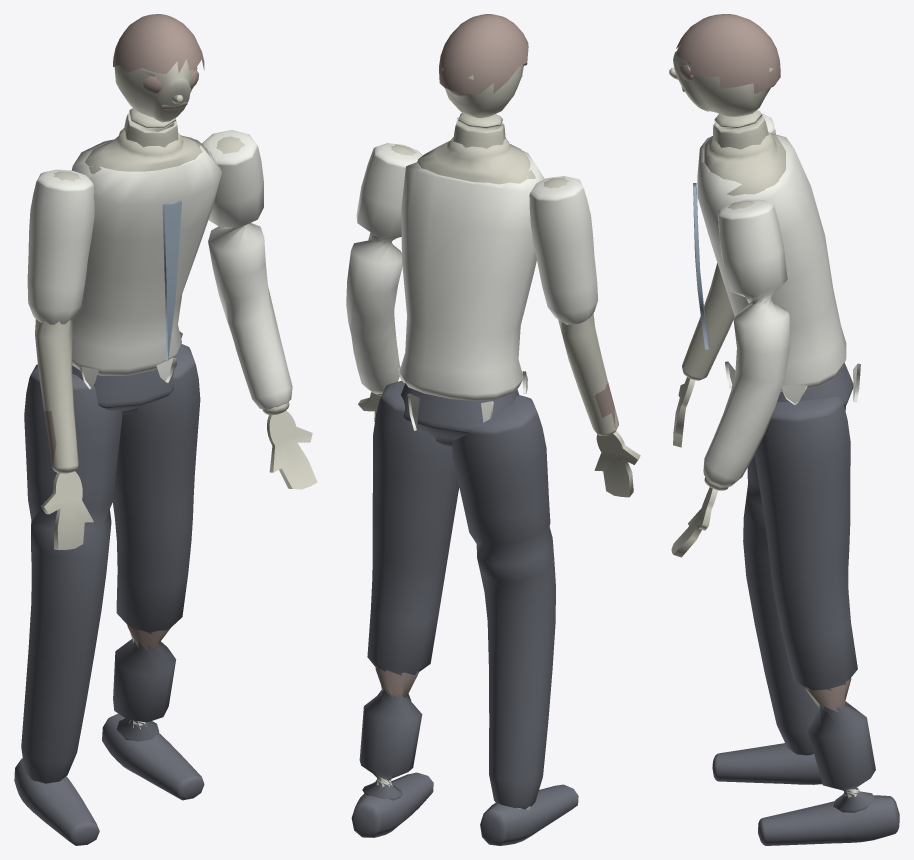
The model's file is undead-horde-and-infected-variants-walker-office-clerk-ed21f7d7.glb.
3 renders of one model, left to right at view 1: azimuth 30°, elevation 25°; view 2: azimuth 150°, elevation 25°; view 3: azimuth 270°, elevation 25°, orthographic. The views are drawn at different scales.
Visible parts, largest first — view 1: walker-office-clerk; view 2: walker-office-clerk; view 3: walker-office-clerk.
Boxes of the visible parts, x1,y1,x2,y2 form: walker-office-clerk: (14,14,317,845); walker-office-clerk: (346,14,640,845); walker-office-clerk: (669,14,899,845).
Size of the model in its own units: 0.6329 by 1.74 by 0.4537.
